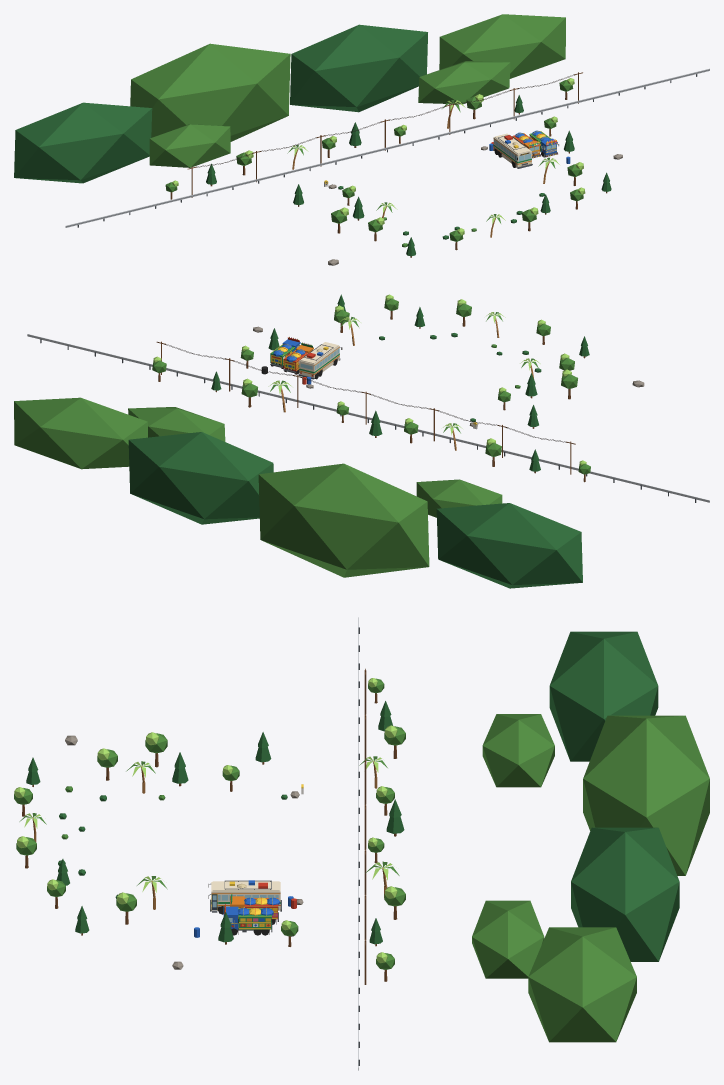
File: scenery.glb
3 views of the same model, one above another, from view 1: azimuth 30°, elevation 25°; view 2: azimuth 150°, elevation 25°; view 3: azimuth 270°, elevation 25° (orthographic). The views are drawn at different scales.
Parts seen in each view (by area): view 1: scenery; view 2: scenery; view 3: scenery.
Part boxes in pixels (x1,y1,x2,y2): scenery: (14,14,709,265); scenery: (14,294,709,588); scenery: (14,617,709,1070).
Size of the model in its own units: 100 by 16 by 65.34.
Materials: 1 (1 with a texture image).
